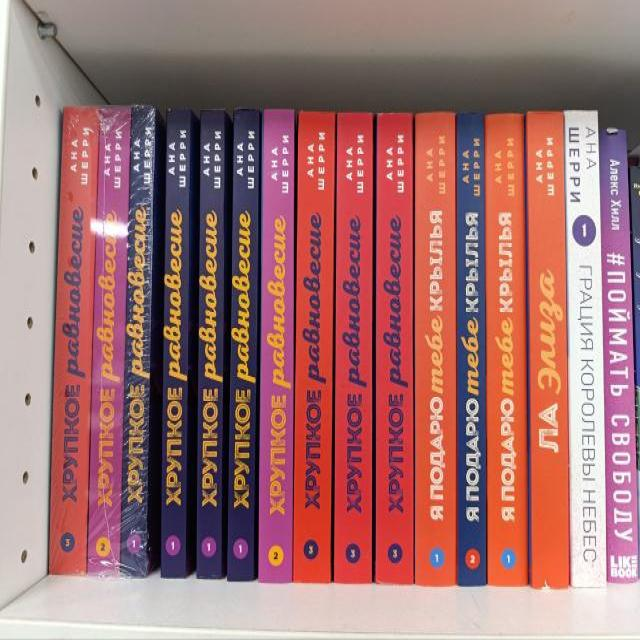book: (48, 105, 100, 573), (292, 112, 336, 583), (527, 110, 570, 589), (88, 105, 131, 577), (486, 114, 528, 584), (566, 110, 607, 588), (416, 111, 457, 586), (599, 129, 639, 581), (334, 113, 372, 584), (376, 113, 413, 585), (119, 105, 156, 576), (258, 109, 294, 582), (228, 107, 259, 582), (162, 107, 191, 578), (457, 112, 485, 586), (197, 108, 224, 579)
